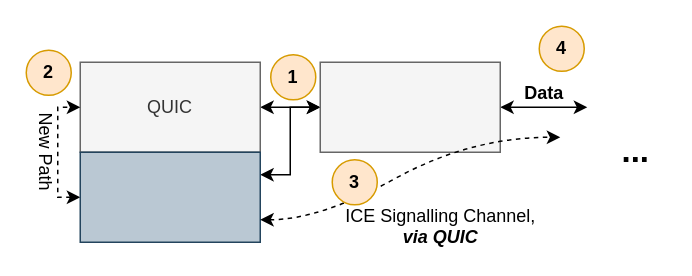
This 692x276 diagram has some shape labels left out. The centre of each missing label's shape, as x and y in pixels:
"ICE Agent" belongs at [169,196].
"QUICHEPERF" belongs at [409,106].
